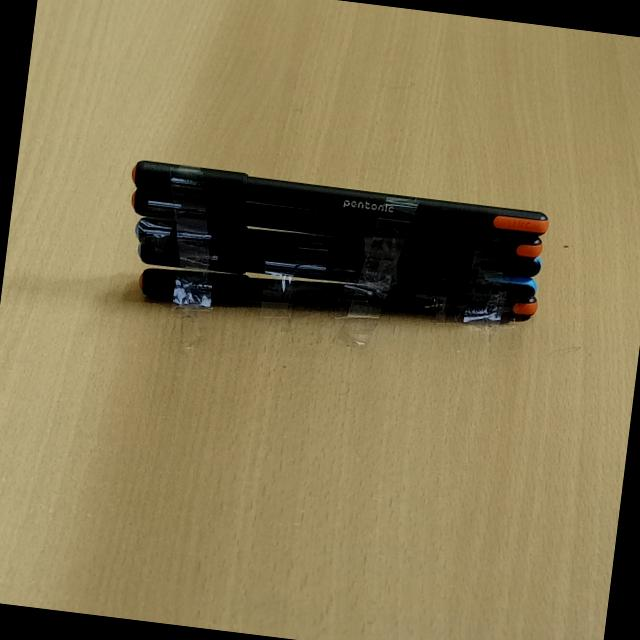pen: (120, 112, 554, 248), (126, 214, 546, 308)
